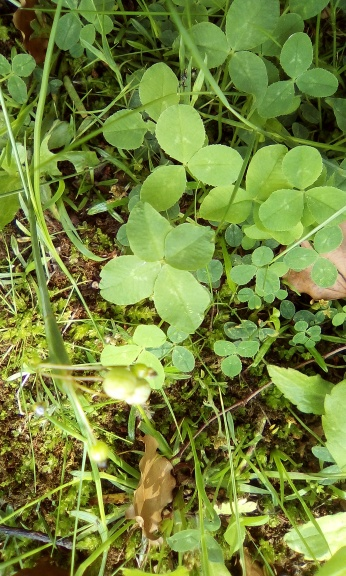4leaf: (99, 200, 216, 335)
